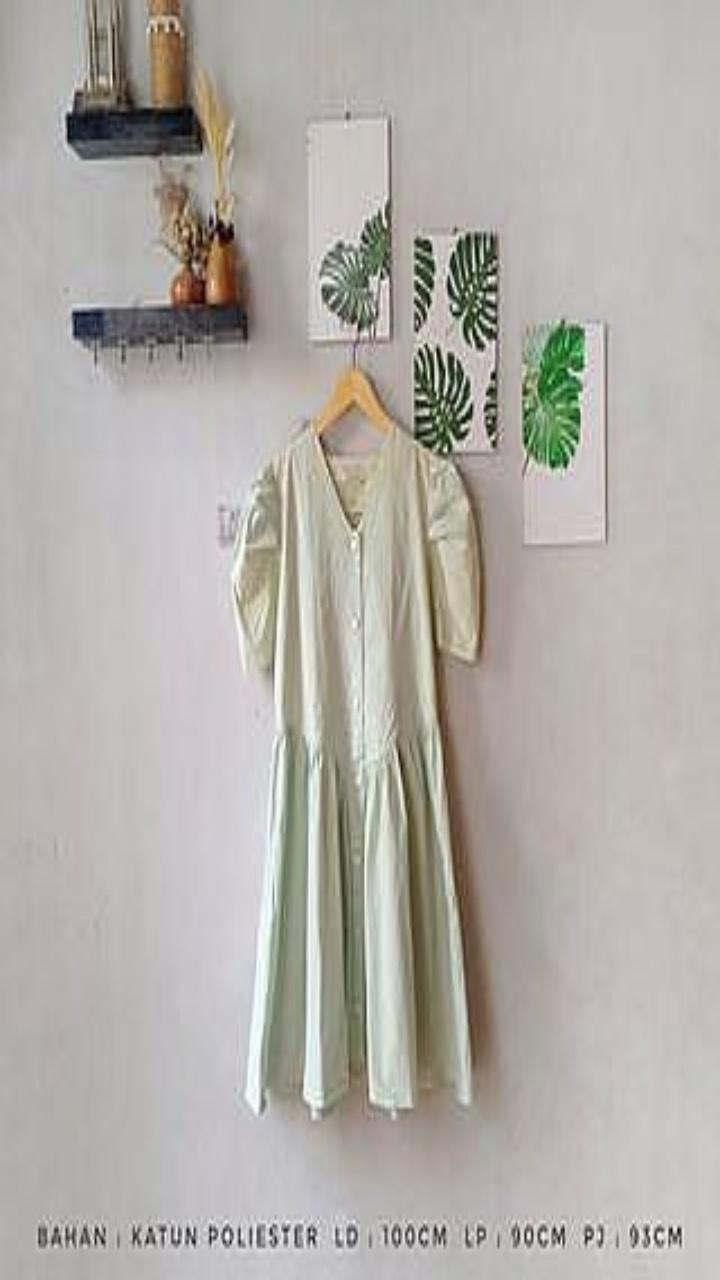Dresses: (232, 426, 479, 1112)
